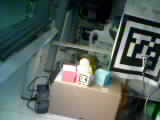duck: (66, 54, 100, 81)
